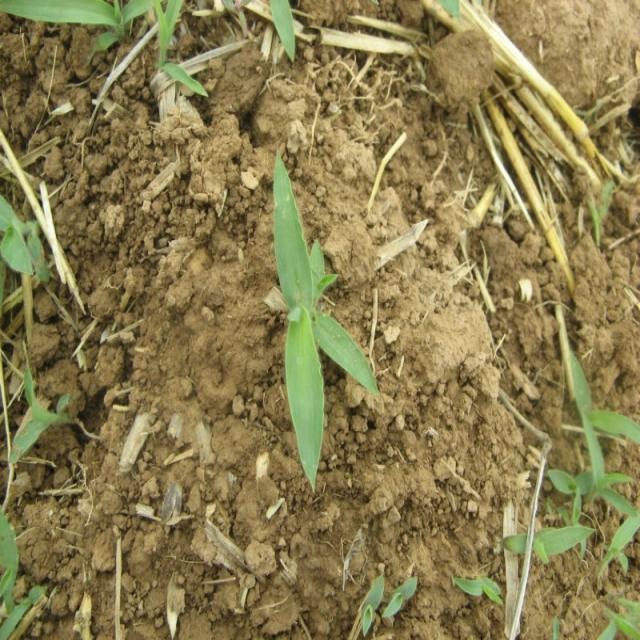bg: (270, 154, 383, 488)
